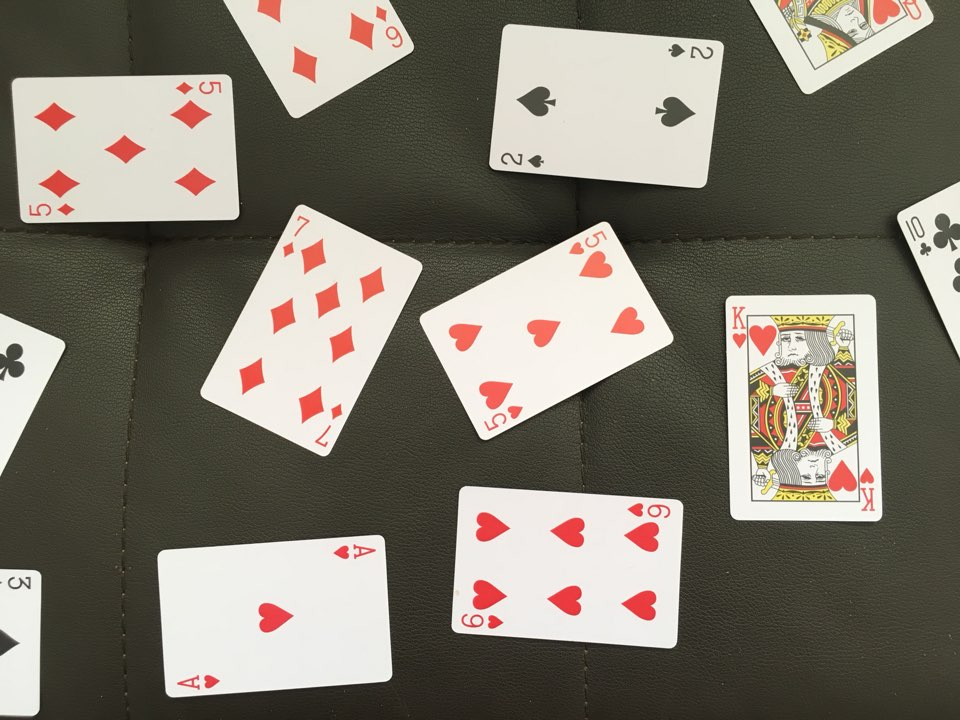ace: (146, 528, 400, 701)
king: (714, 286, 889, 531)
queen: (746, 1, 948, 96)
ten: (893, 176, 960, 372)
